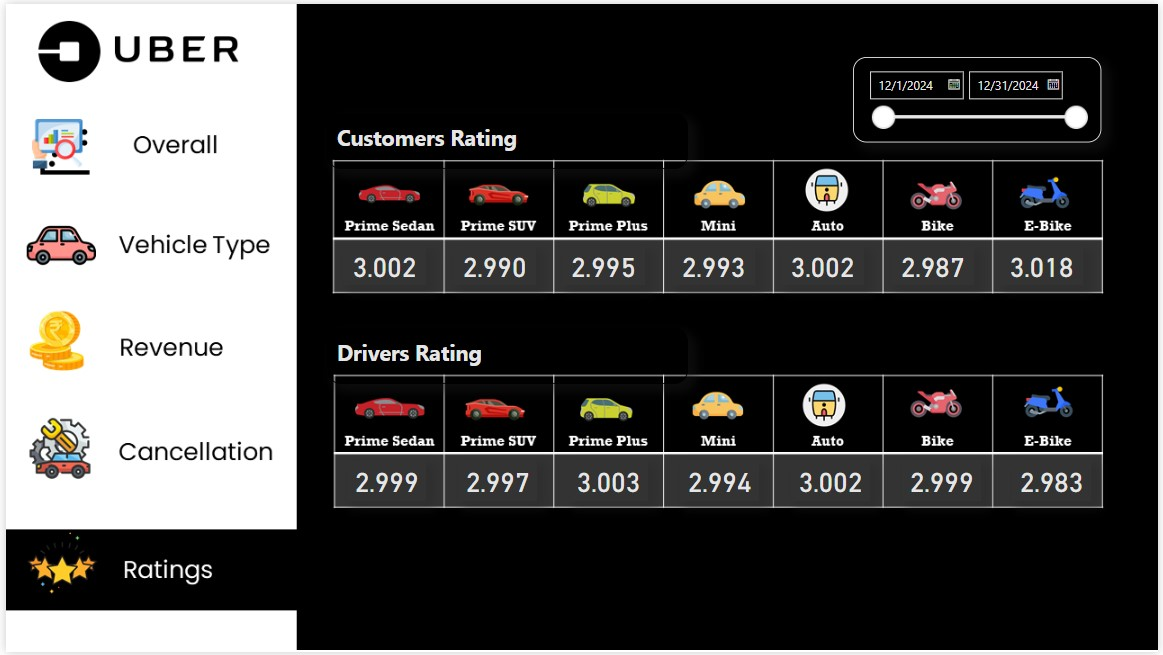

Layout of this report page (visuals, bound fields, positions):
{"tool":"powerbi","page":{"name":"Ratings","canvas":[1280,720],"ordinal":4},"visuals":[{"type":"actionButton","box":[0,223.5,323.5,88.2],"z":0},{"type":"actionButton","box":[0,452.9,323.5,88.2],"z":1000},{"type":"actionButton","box":[0,332.9,323.5,88.2],"z":2000},{"type":"actionButton","box":[0,114.1,323.5,88.2],"z":3000},{"type":"card","fields":{"Values":["Avg(Bookings_Data.Driver_Ratings)"]},"box":[374.6,268.9,92.2,42.8],"z":4000},{"type":"card","fields":{"Values":["Avg(Bookings_Data.Driver_Ratings)"]},"box":[496.3,268.9,92.2,42.8],"z":5000},{"type":"card","fields":{"Values":["Avg(Bookings_Data.Driver_Ratings)"]},"box":[618,268.9,92.2,42.8],"z":6000},{"type":"card","fields":{"Values":["Avg(Bookings_Data.Driver_Ratings)"]},"box":[739.7,268.9,92.2,42.8],"z":7000},{"type":"card","fields":{"Values":["Avg(Bookings_Data.Driver_Ratings)"]},"box":[861.4,268.9,92.2,42.8],"z":8000},{"type":"card","fields":{"Values":["Avg(Bookings_Data.Driver_Ratings)"]},"box":[983.1,268.9,92.2,42.8],"z":9000},{"type":"card","fields":{"Values":["Avg(Bookings_Data.Driver_Ratings)"]},"box":[1104.8,268.9,92.2,42.8],"z":10000},{"type":"card","fields":{"Values":["Avg(Bookings_Data.Customer_Rating)"]},"box":[379.1,506.2,87.8,46.1],"z":11000},{"type":"card","fields":{"Values":["Avg(Bookings_Data.Customer_Rating)"]},"box":[502.3,506.2,87.8,46.1],"z":12000},{"type":"card","fields":{"Values":["Avg(Bookings_Data.Customer_Rating)"]},"box":[625.5,506.2,87.8,46.1],"z":13000},{"type":"card","fields":{"Values":["Avg(Bookings_Data.Customer_Rating)"]},"box":[748.7,506.2,87.8,46.1],"z":14000},{"type":"card","fields":{"Values":["Avg(Bookings_Data.Customer_Rating)"]},"box":[871.9,506.2,87.8,46.1],"z":15000},{"type":"card","fields":{"Values":["Avg(Bookings_Data.Customer_Rating)"]},"box":[995.1,506.2,87.8,46.1],"z":16000},{"type":"card","fields":{"Values":["Avg(Bookings_Data.Customer_Rating)"]},"box":[1118.2,506.2,87.8,46.1],"z":17000},{"type":"slicer","fields":{"Values":["Bookings_Data.Date"]},"box":[941.6,58.5,275.6,94.5],"z":18000},{"type":"textbox","box":[356.6,121.5,400.5,61.9],"z":19000},{"type":"textbox","box":[356.6,360,400.5,61.9],"z":20000}]}

Visuals, with their boxes on the page's 1280x720 design canvas (x1, y1, x2, y2). These are canvas units, not pixel positions in the 1163x655 screenshot, which may show the page scaled, cropped or inside an application window:
actionButton: crop(0, 224, 324, 312)
actionButton: crop(0, 453, 324, 541)
actionButton: crop(0, 333, 324, 421)
actionButton: crop(0, 114, 324, 202)
card - Avg(Bookings_Data.Driver_Ratings): crop(375, 269, 467, 312)
card - Avg(Bookings_Data.Driver_Ratings): crop(496, 269, 588, 312)
card - Avg(Bookings_Data.Driver_Ratings): crop(618, 269, 710, 312)
card - Avg(Bookings_Data.Driver_Ratings): crop(740, 269, 832, 312)
card - Avg(Bookings_Data.Driver_Ratings): crop(861, 269, 954, 312)
card - Avg(Bookings_Data.Driver_Ratings): crop(983, 269, 1075, 312)
card - Avg(Bookings_Data.Driver_Ratings): crop(1105, 269, 1197, 312)
card - Avg(Bookings_Data.Customer_Rating): crop(379, 506, 467, 552)
card - Avg(Bookings_Data.Customer_Rating): crop(502, 506, 590, 552)
card - Avg(Bookings_Data.Customer_Rating): crop(626, 506, 713, 552)
card - Avg(Bookings_Data.Customer_Rating): crop(749, 506, 836, 552)
card - Avg(Bookings_Data.Customer_Rating): crop(872, 506, 960, 552)
card - Avg(Bookings_Data.Customer_Rating): crop(995, 506, 1083, 552)
card - Avg(Bookings_Data.Customer_Rating): crop(1118, 506, 1206, 552)
slicer - Bookings_Data.Date: crop(942, 58, 1217, 153)
textbox: crop(357, 122, 757, 183)
textbox: crop(357, 360, 757, 422)
